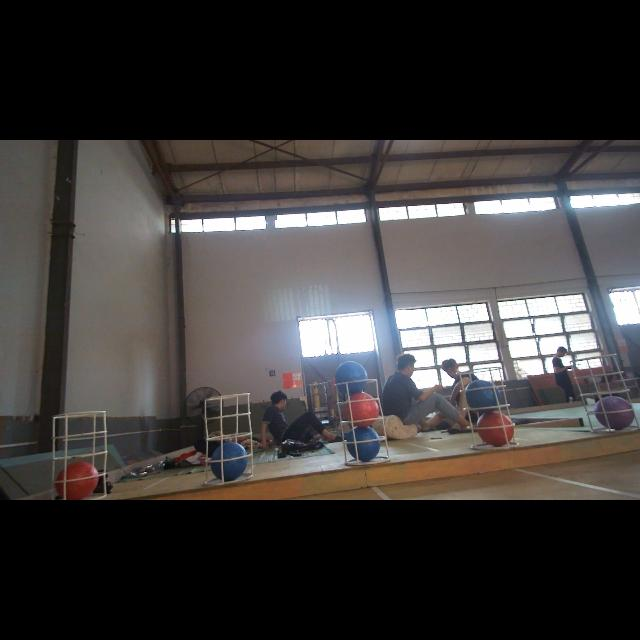B: (211, 442, 249, 482), (345, 424, 383, 460), (335, 359, 367, 395), (466, 382, 500, 411)
R: (57, 460, 101, 500), (474, 410, 516, 450), (344, 394, 381, 428)
